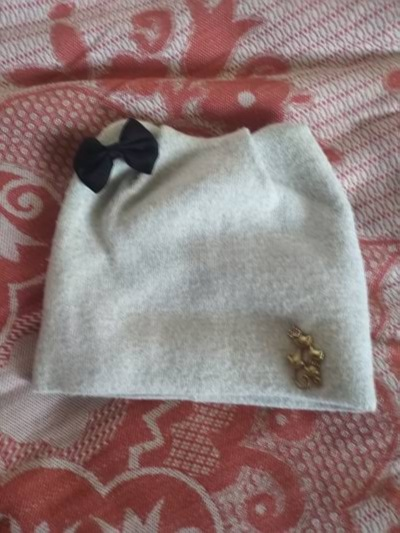Hat: (34, 74, 388, 442)
